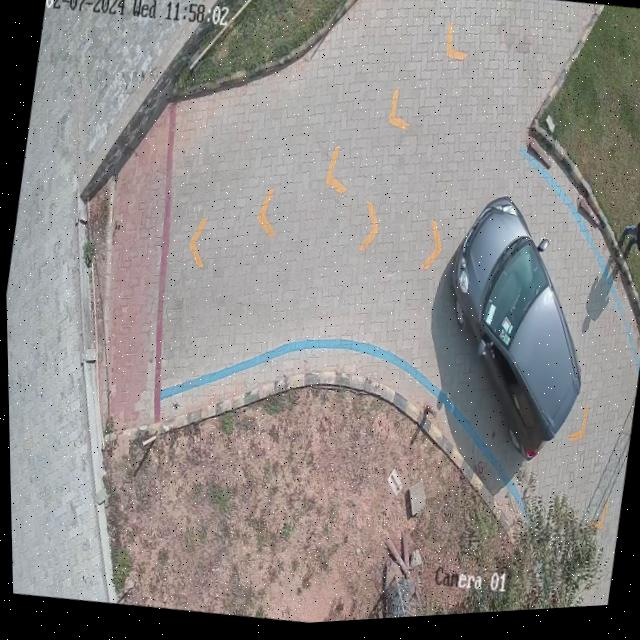car: (450, 204, 582, 469)
